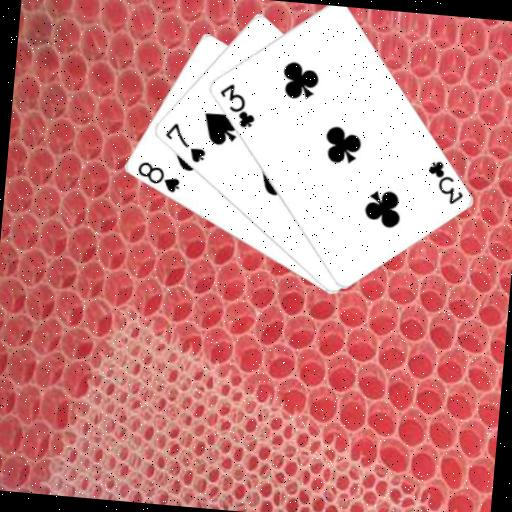3C: (213, 79, 259, 130), (422, 156, 468, 207)
7S: (158, 119, 209, 165)
8S: (132, 157, 183, 195)
